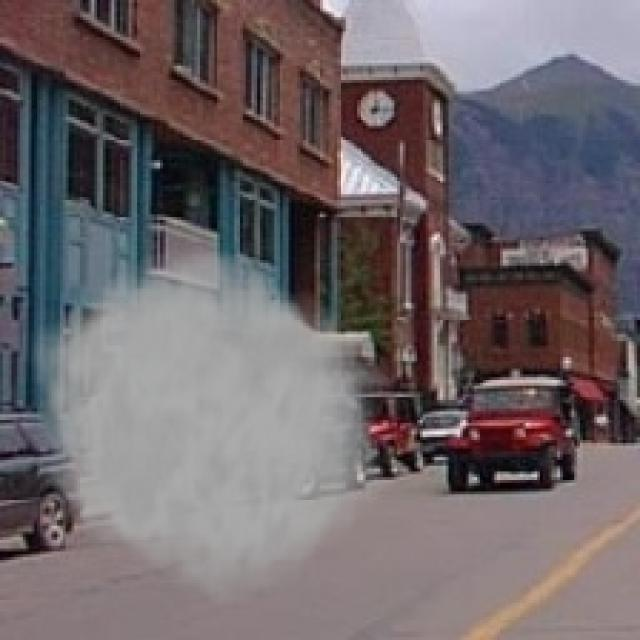Smoke: (17, 235, 389, 614)
